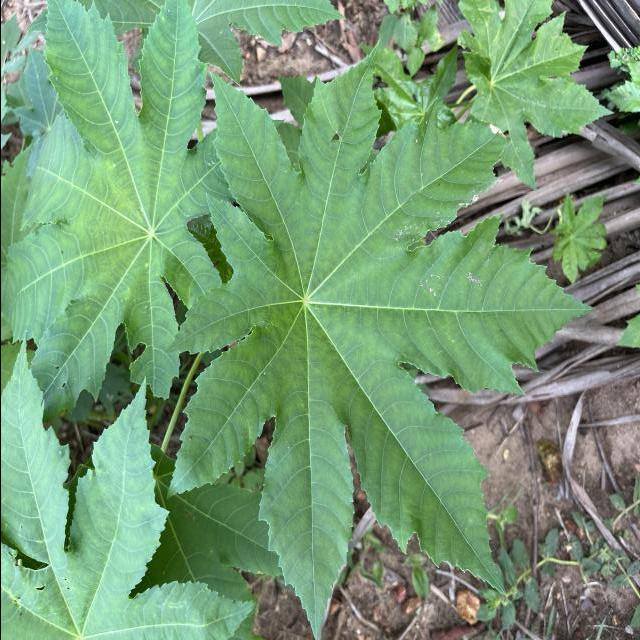Ricinus communis linn: (158, 33, 598, 640), (0, 0, 250, 431)
